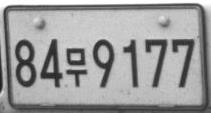1: (120, 38, 143, 88)
4: (39, 38, 63, 87)
7: (144, 38, 169, 88), (171, 38, 195, 88)
8: (13, 38, 37, 87)
9: (91, 38, 115, 88)
무: (66, 47, 87, 87)
